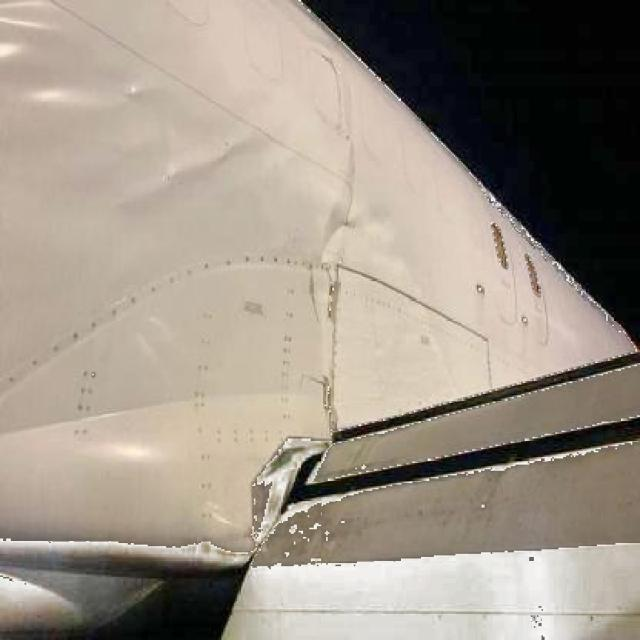dent: (321, 186, 395, 266), (147, 134, 247, 191), (3, 3, 71, 63), (18, 75, 100, 109), (306, 264, 346, 330), (117, 80, 154, 106)
